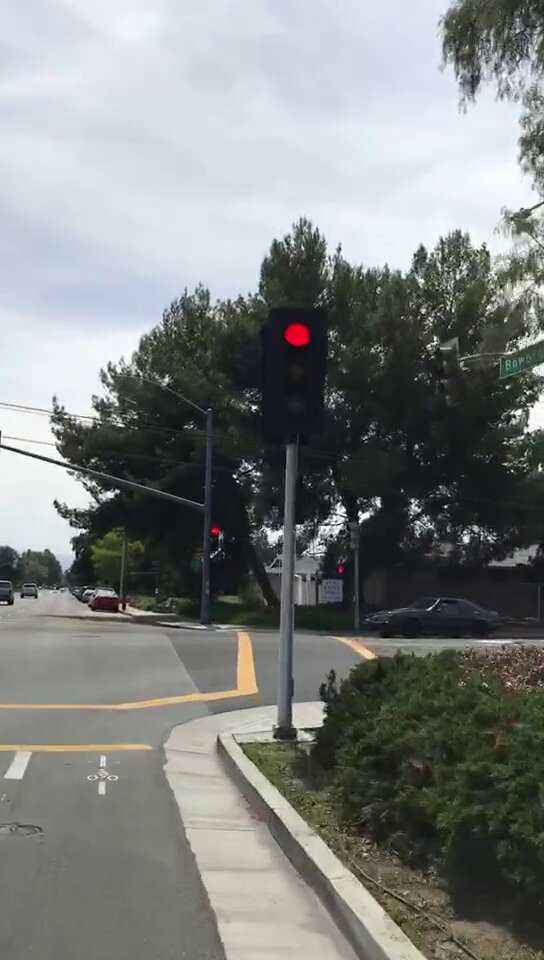red_light: (273, 314, 325, 437), (207, 522, 220, 551)
